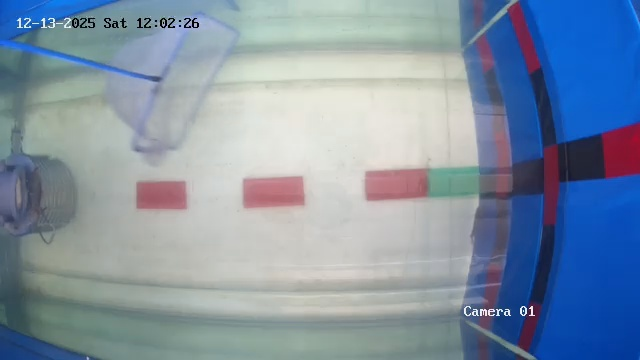fish: (469, 195, 493, 238)
